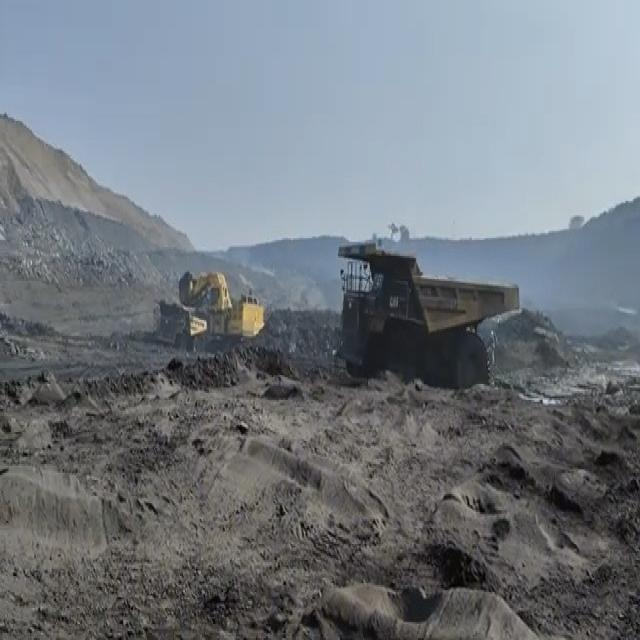dump_truck: (330, 240, 522, 400), (154, 297, 205, 356)
excavator: (175, 267, 267, 334)
